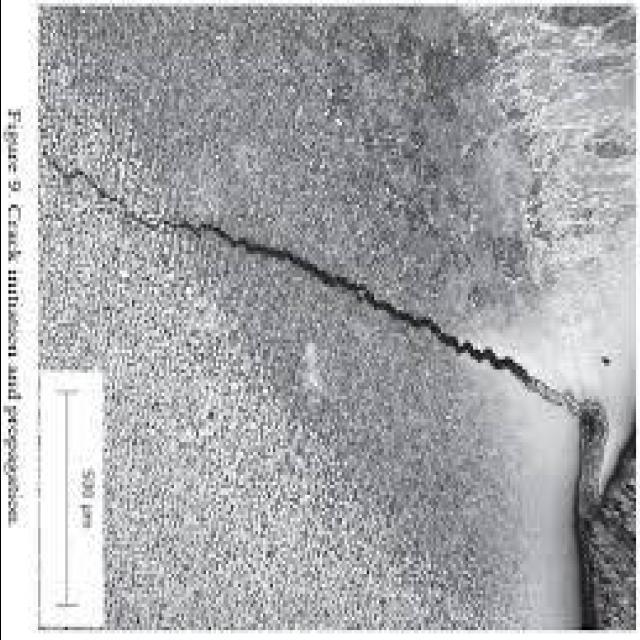Crack: (45, 145, 598, 434)
